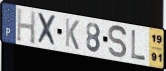8: (86, 22, 102, 54)
H: (16, 7, 37, 46)
K: (64, 17, 80, 52)
L: (130, 28, 147, 62)
S: (108, 24, 129, 60)
X: (36, 12, 58, 49)
